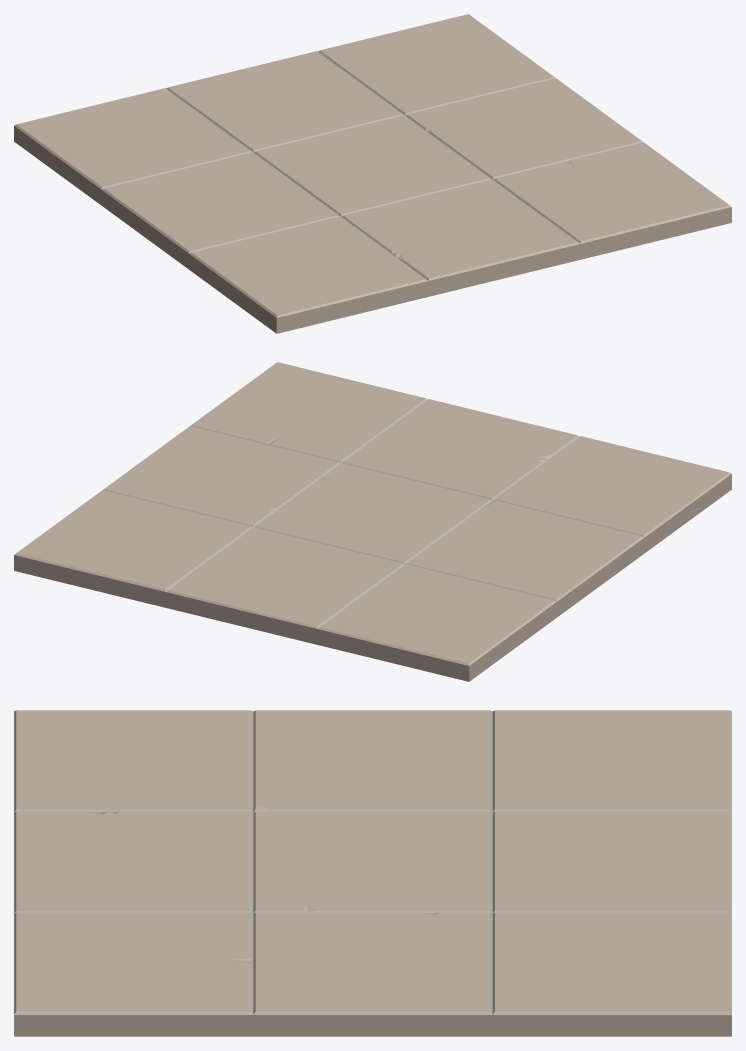
Rendered from greek_floor_stone_2.fbx.
The picture shows the model from 3 angles, top to bottom: view 1: azimuth 30°, elevation 25°; view 2: azimuth 150°, elevation 25°; view 3: azimuth 270°, elevation 25°; orthographic projection. The views are drawn at different scales.
Parts seen in each view (by area): view 1: Cube.033; view 2: Cube.033; view 3: Cube.033.
Boxes of the visible parts, x1=… form: Cube.033: x1=14, y1=14, x2=731, y2=333; Cube.033: x1=14, y1=362, x2=731, y2=681; Cube.033: x1=14, y1=710, x2=731, y2=1036.
Size of the model in its own units: 300 by 11 by 300.
